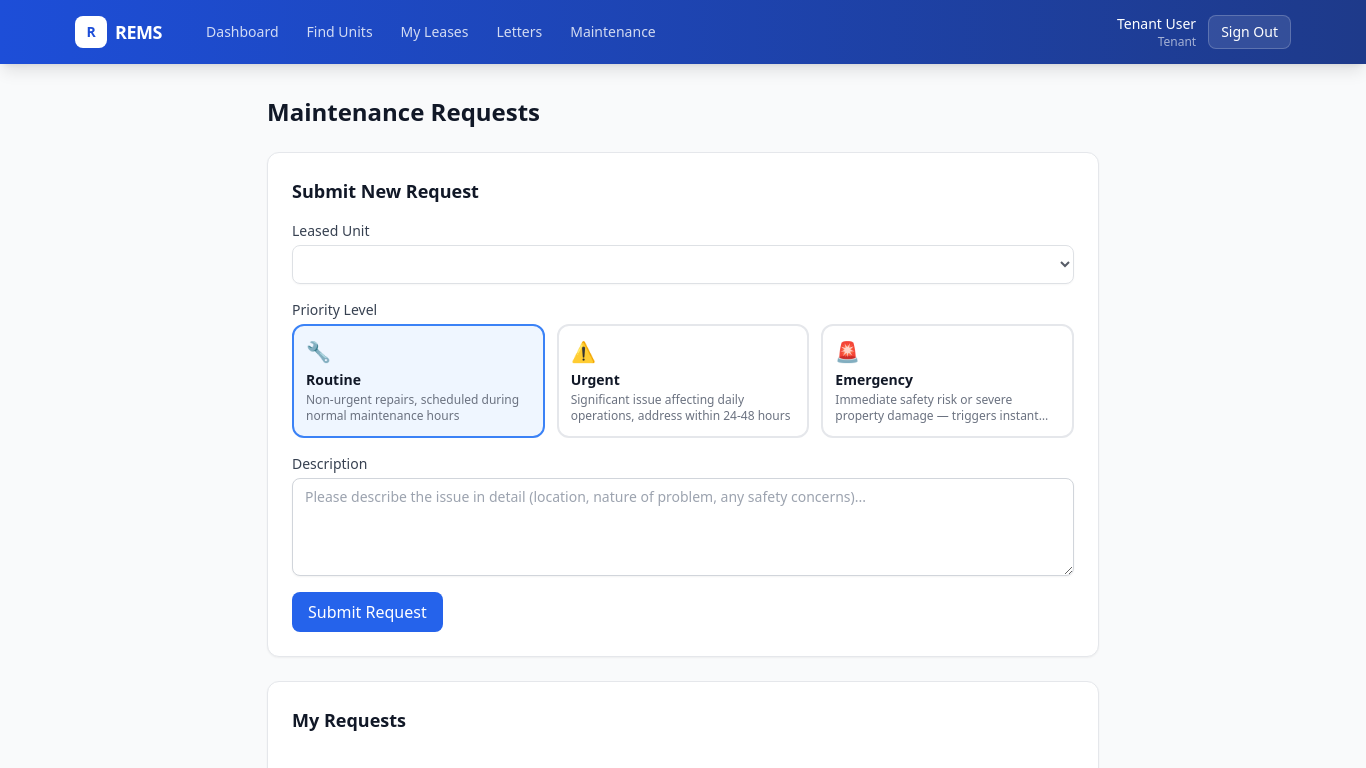
Test: TC-10: Maintenance Request page › shows success message after ticket is submitted
The width and height of the screenshot is (1366, 768).
Replace the text in the text box with placeholder "describe the issue" with "The AC unit is making loud noises.": (683, 527) 292,478 -> 1074,576
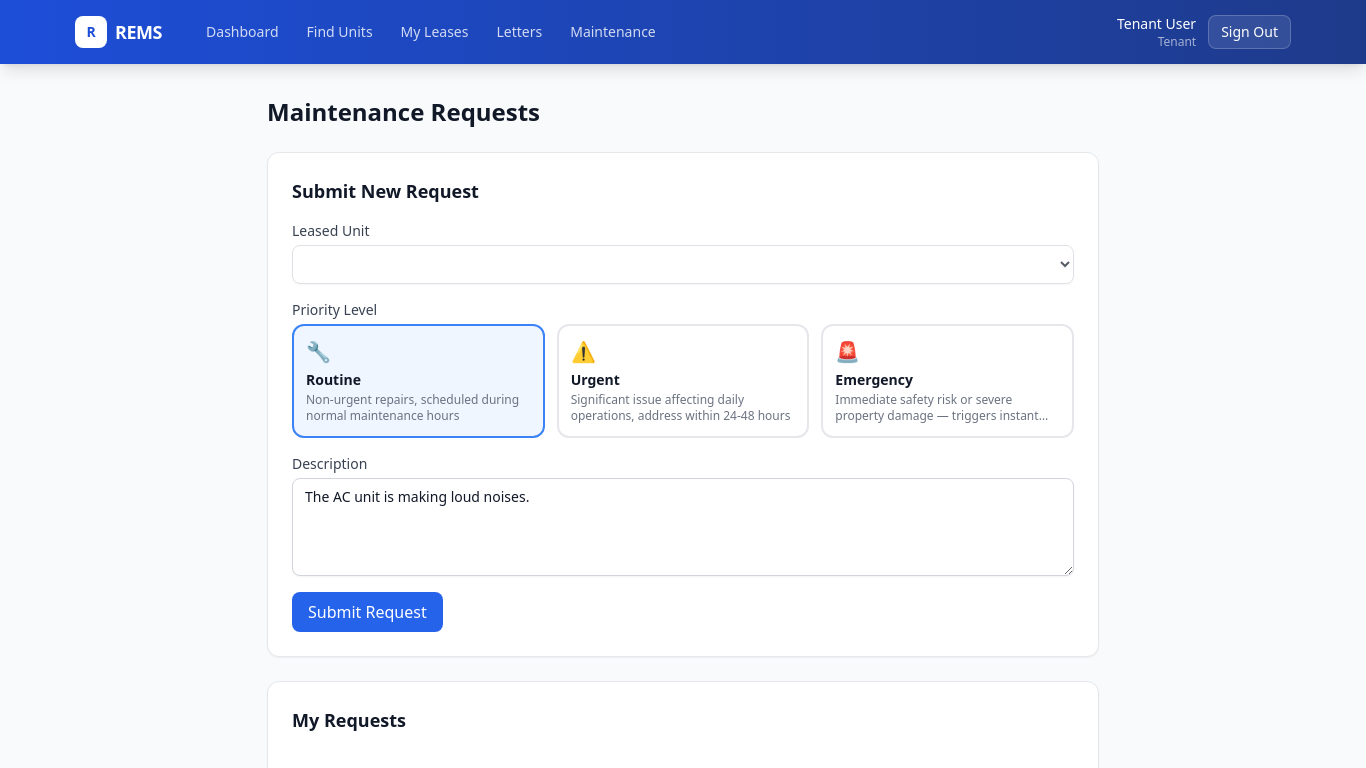
Click the button "Submit Request": (367, 612) 292,592 -> 443,632
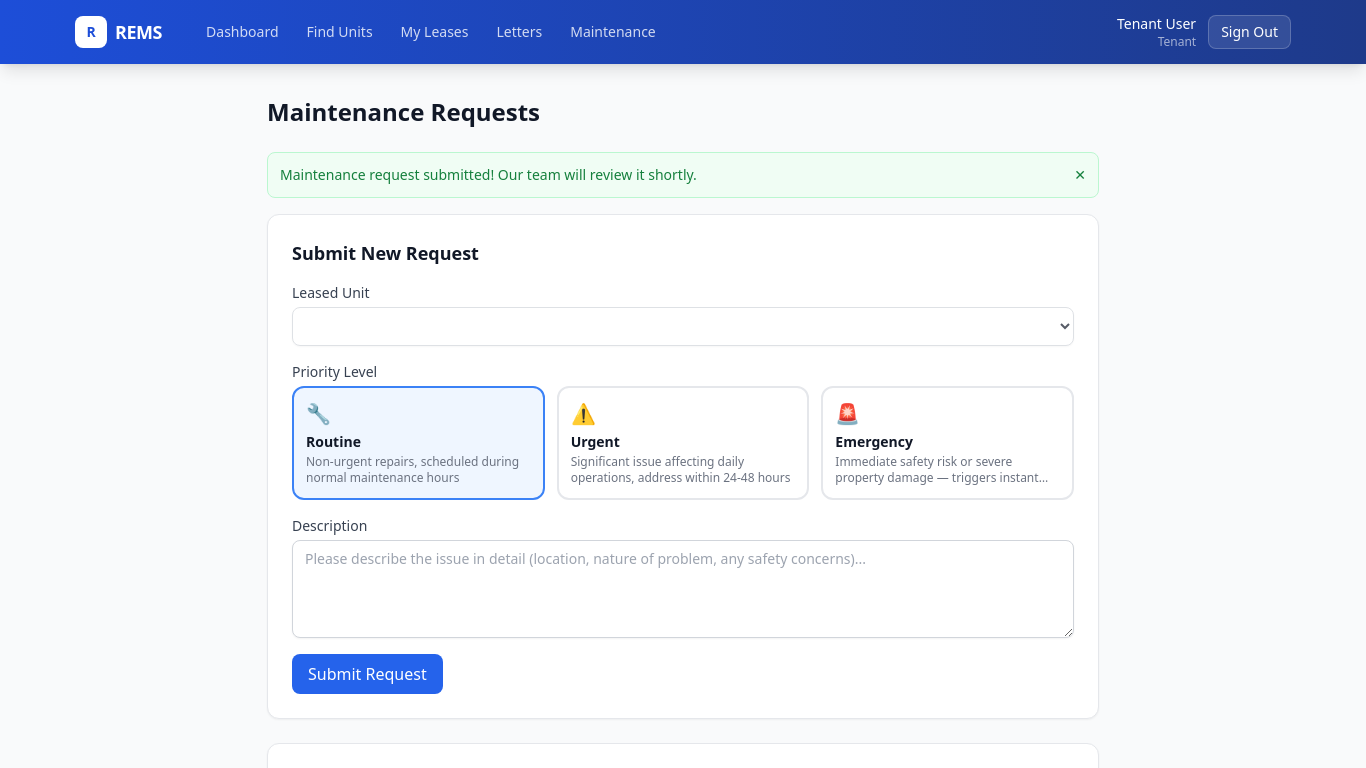
Now the text "Maintenance request submitted" is shown, box 280,165 -> 697,184
